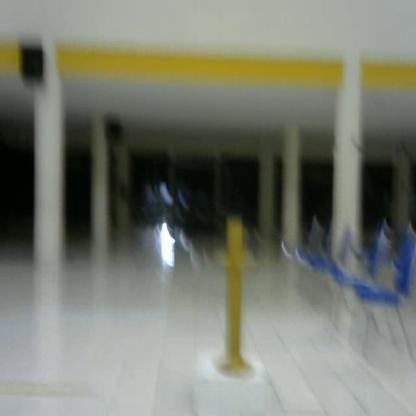pole: (211, 217, 263, 384)
